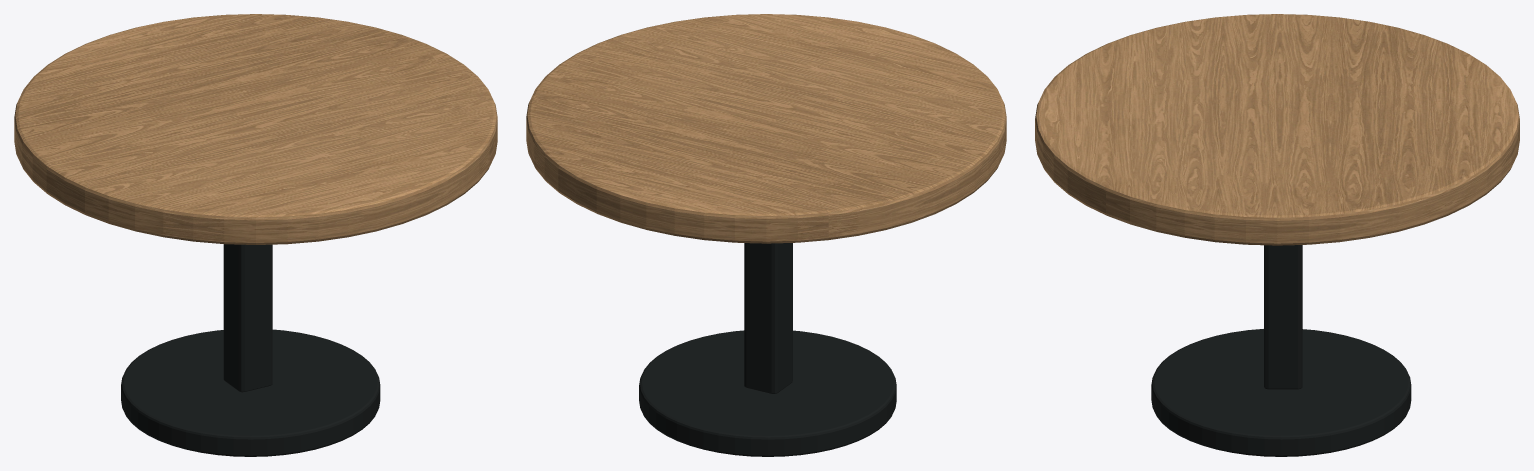
File: hiperreal.glb
3 views of the same model, side by side, from view 1: azimuth 30°, elevation 25°; view 2: azimuth 150°, elevation 25°; view 3: azimuth 270°, elevation 25° (orthographic).
Parts seen in each view (by area): view 1: starbucksTable_2, starbucksTable_0, starbucksTable_1; view 2: starbucksTable_2, starbucksTable_0, starbucksTable_1; view 3: starbucksTable_2, starbucksTable_0, starbucksTable_1.
Boxes of the visible parts, x1,y1,x2,y2 form: starbucksTable_2: (14, 14, 497, 244); starbucksTable_0: (121, 329, 380, 456); starbucksTable_1: (223, 244, 272, 392); starbucksTable_2: (526, 14, 1006, 243); starbucksTable_0: (639, 330, 896, 456); starbucksTable_1: (744, 243, 792, 393); starbucksTable_2: (1035, 14, 1519, 245); starbucksTable_0: (1151, 329, 1411, 456); starbucksTable_1: (1264, 245, 1302, 389).
Size of the model in its own units: 1.25 by 0.825 by 1.25.
2 materials, 1 textured.
